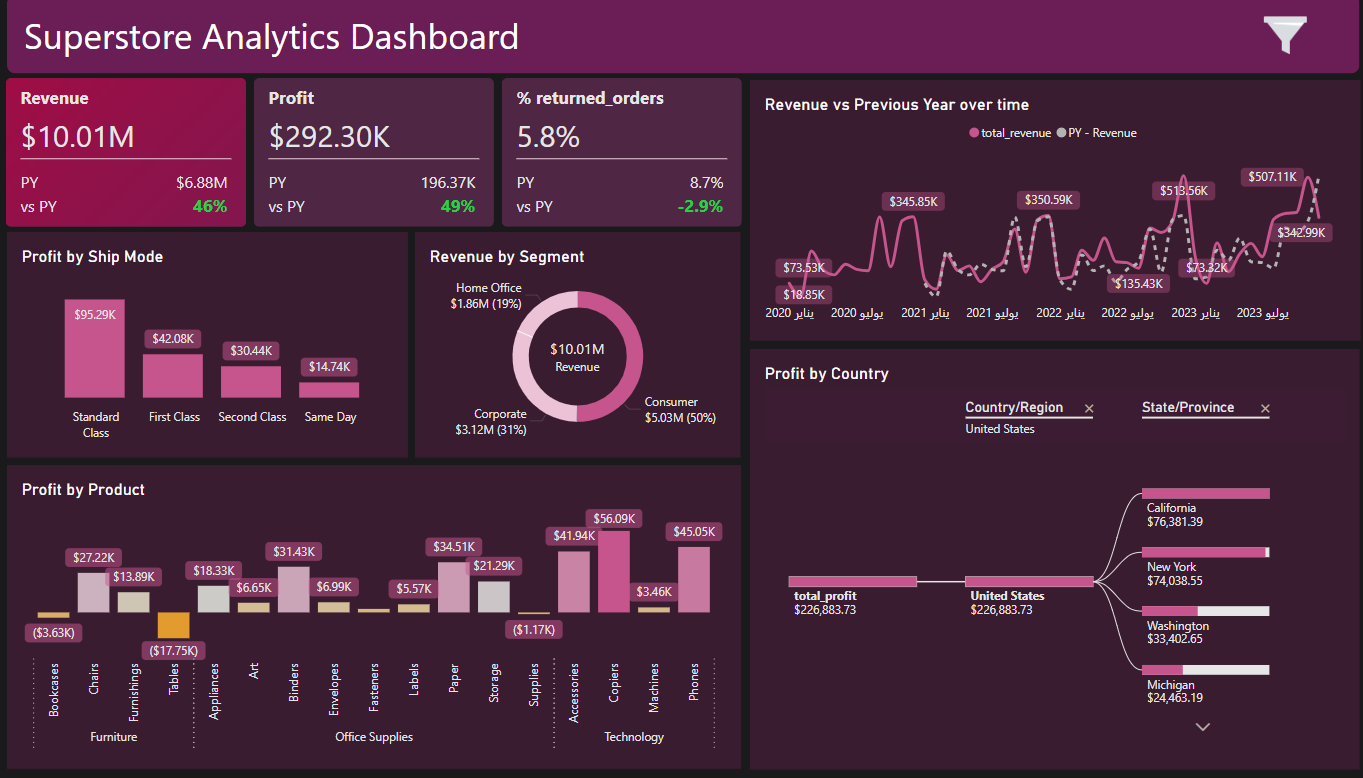

This screenshot's page, from the dashboard's own definition file:
{"tool":"powerbi","page":{"name":"superstore ","canvas":[1400,800],"ordinal":0},"visuals":[{"type":"cardVisual","fields":{"Data":["Measures (2).total_revenue","Measures (2).total_profit","Measures (2).% returned_orders"]},"box":[5,80,763.6,162.1],"z":0},{"type":"shape","box":[11.2,0,1380,80],"z":1000},{"type":"lineChart","title":"Revenue vs Previous Year over time ","fields":{"Y":["_Measures.total_revenue","_Measures.PY - Revenue"],"Category":["Date.start_month_Date"]},"box":[769.2,86.7,622.5,265.8],"z":2000},{"type":"columnChart","title":"Profit by Product ","fields":{"Category":["Orders_table.Category","Orders_table.Sub-Category"],"Y":["_Measures.total_profit"]},"box":[11.1,480,748.9,310],"z":3000},{"type":"decompositionTreeVisual","title":"Profit by Country","fields":{"Analyze":["_Measures.total_profit"],"ExplainBy":["Orders_table.Country/Region","Orders_table.State/Province"]},"box":[768.9,361.1,622.2,428.9],"z":4000},{"type":"donutChart","title":"Revenue by Segment","fields":{"Category":["Orders_table.Segment"],"Y":["_Measures.total_revenue"]},"box":[427.8,242.2,332.2,230],"z":5000},{"type":"columnChart","title":"Profit by Ship Mode","fields":{"Category":["Orders_table.Ship Mode"],"Y":["_Measures.total_profit"]},"box":[11.1,242.2,408.9,230],"z":6000},{"type":"cardVisual","fields":{"Data":["_Measures.total_revenue"]},"box":[533,327,121,84],"z":7000},{"type":"image","title":"filter hide","box":[1281.2,6.2,67.5,67.5],"z":8000}]}

Visuals, with their boxes in screenshot pixels (x1, y1, x2, y2), scaled from the page's 1400x800 canvas onto the 1363x778 screenshot:
cardVisual - Measures (2).total_revenue x Measures (2).total_profit: [x1=5, y1=78, x2=748, y2=235]
shape: [x1=11, y1=0, x2=1354, y2=78]
"Revenue vs Previous Year over time " lineChart: [x1=749, y1=84, x2=1355, y2=343]
"Profit by Product " columnChart: [x1=11, y1=467, x2=740, y2=768]
"Profit by Country" decompositionTreeVisual: [x1=749, y1=351, x2=1354, y2=768]
"Revenue by Segment" donutChart: [x1=416, y1=236, x2=740, y2=459]
"Profit by Ship Mode" columnChart: [x1=11, y1=236, x2=409, y2=459]
cardVisual - _Measures.total_revenue: [x1=519, y1=318, x2=637, y2=400]
"filter hide" image: [x1=1247, y1=6, x2=1313, y2=72]
